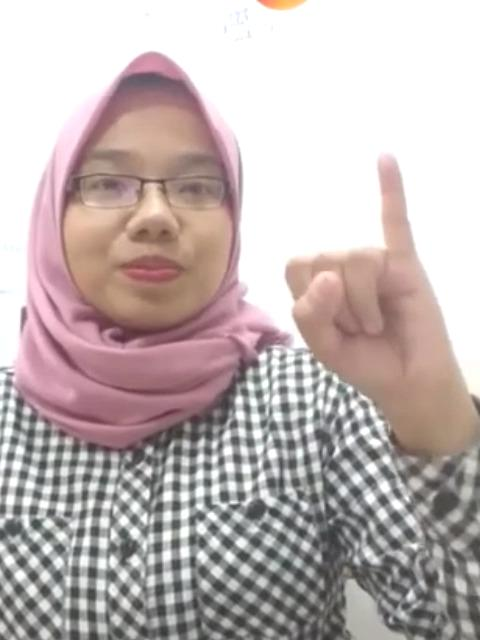I: (286, 144, 454, 410)
